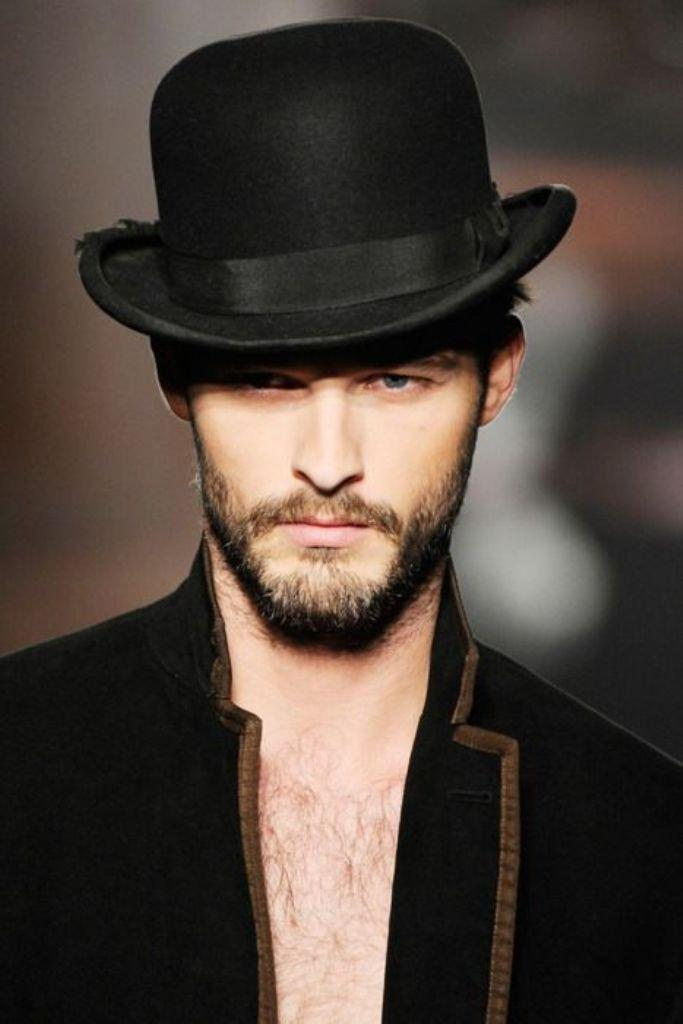cap: (63, 13, 608, 378)
